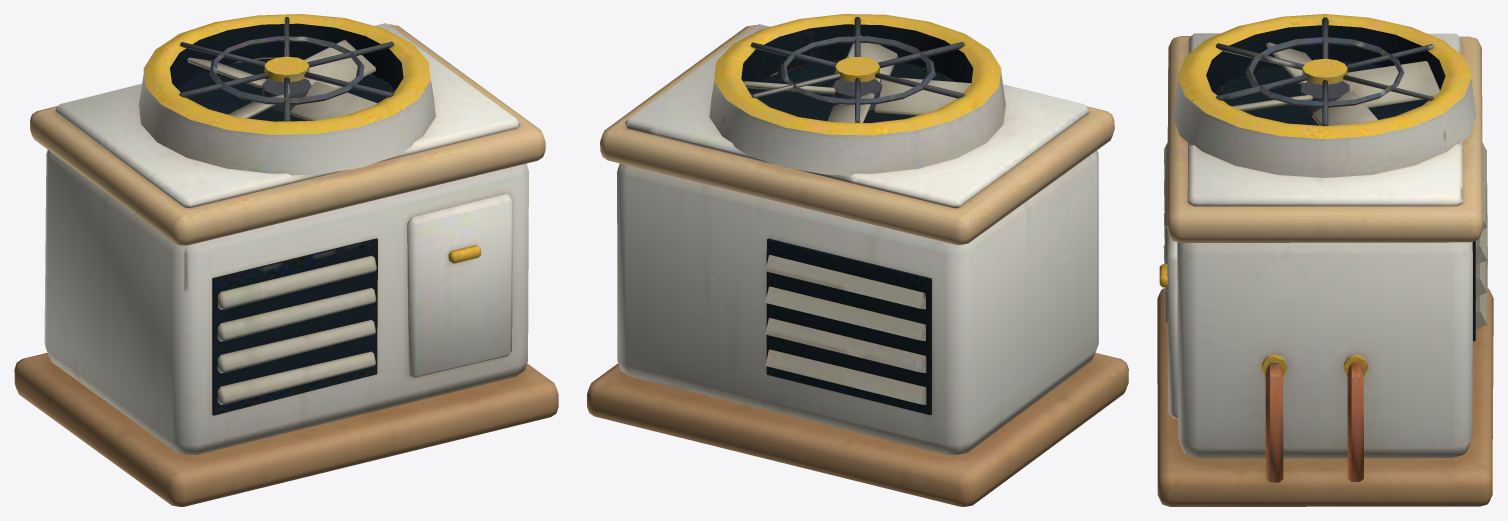
Rendered from ac-unit.glb.
3 renders of one model, left to right at view 1: azimuth 30°, elevation 25°; view 2: azimuth 150°, elevation 25°; view 3: azimuth 270°, elevation 25°, orthographic. The views are drawn at different scales.
Visible parts, largest first — view 1: body, fan; view 2: body, fan; view 3: body, fan.
Part boxes in pixels (x1,y1,x2,y2): body: [14, 14, 558, 506]; fan: [187, 40, 377, 120]; body: [587, 14, 1128, 506]; fan: [743, 35, 971, 122]; body: [1157, 14, 1493, 506]; fan: [1232, 42, 1440, 125].
Size of the model in its own units: 0.9366 by 0.7551 by 0.6621.
Materials: 8 (8 with a texture image).
